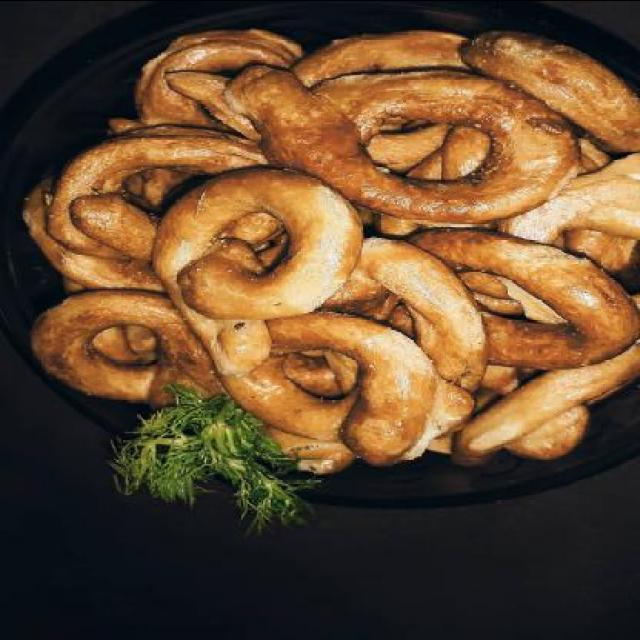Taralli: (40, 29, 628, 446)
